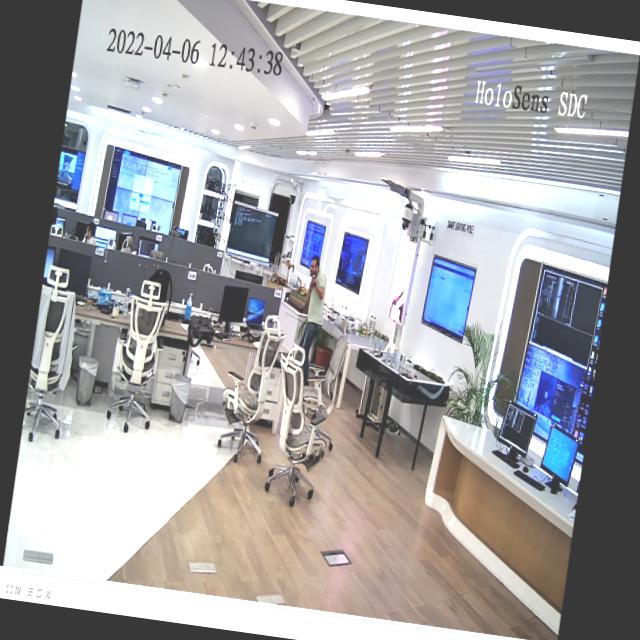long weapon: (309, 270, 320, 292)
